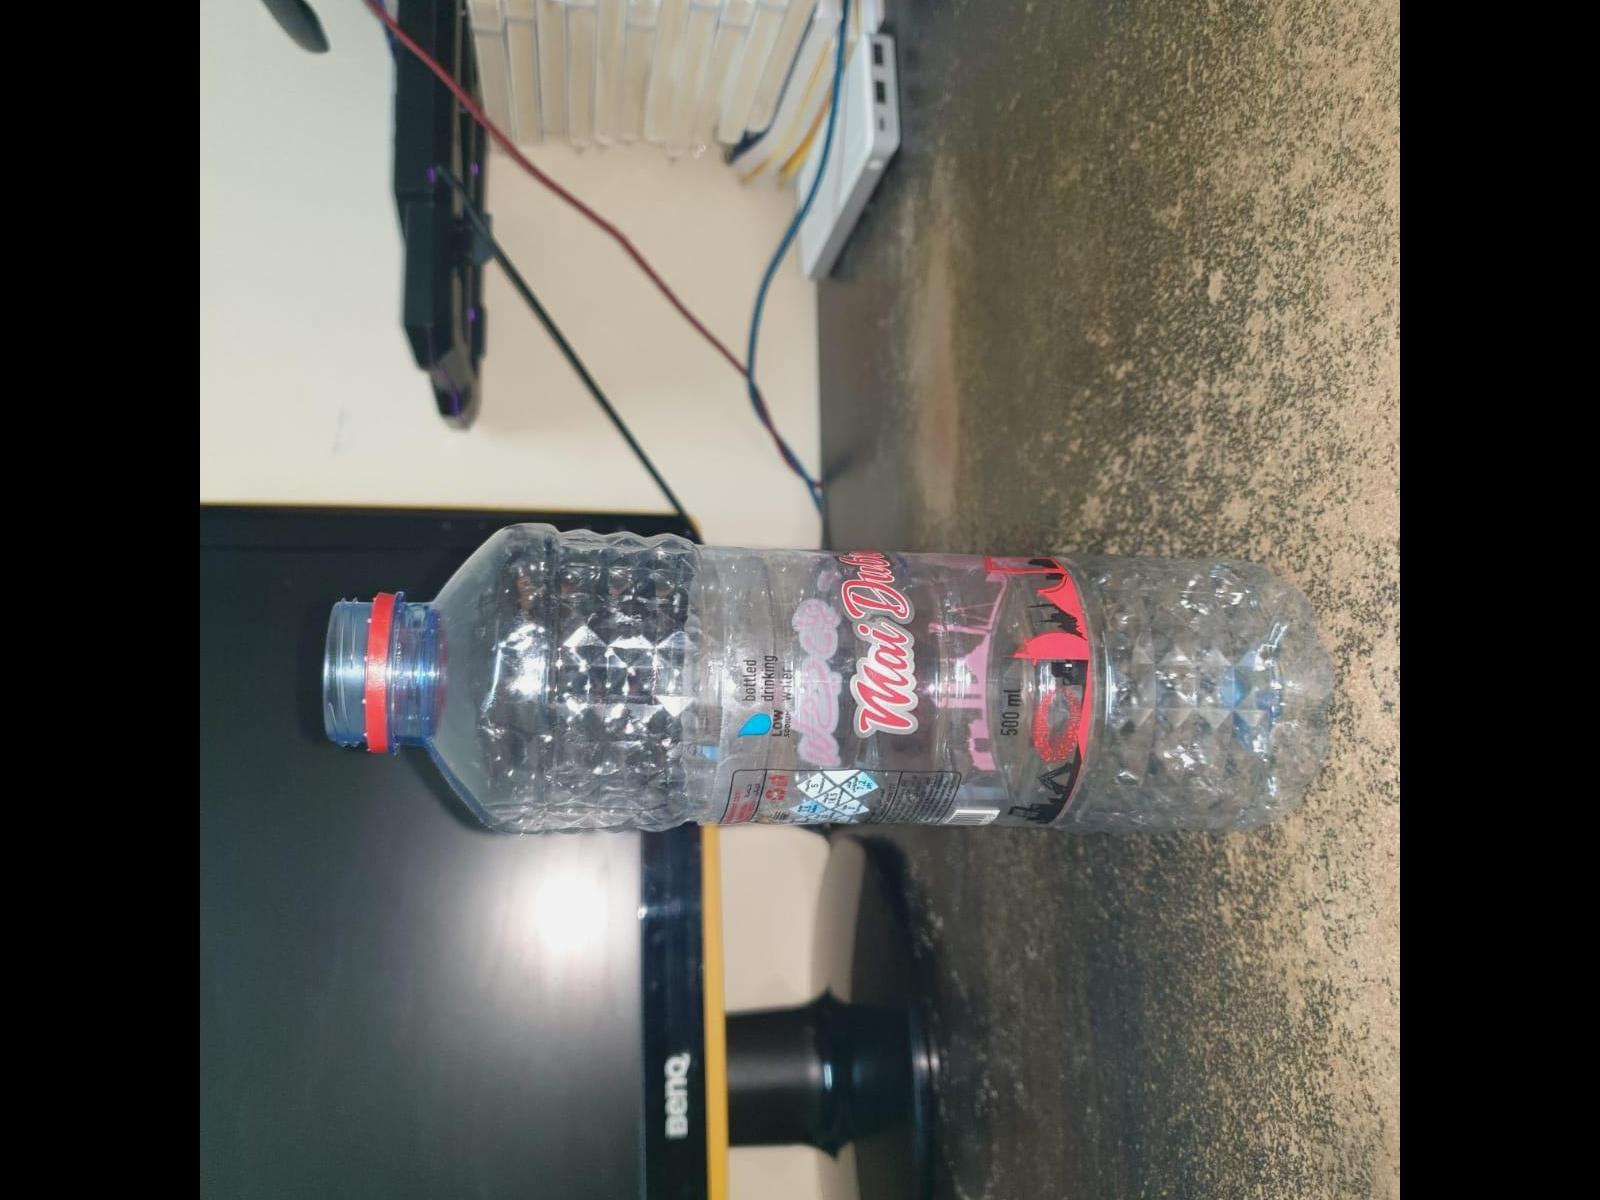bottle: (311, 537, 1346, 839)
